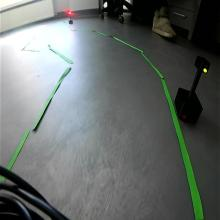green: (194, 55, 211, 74)
